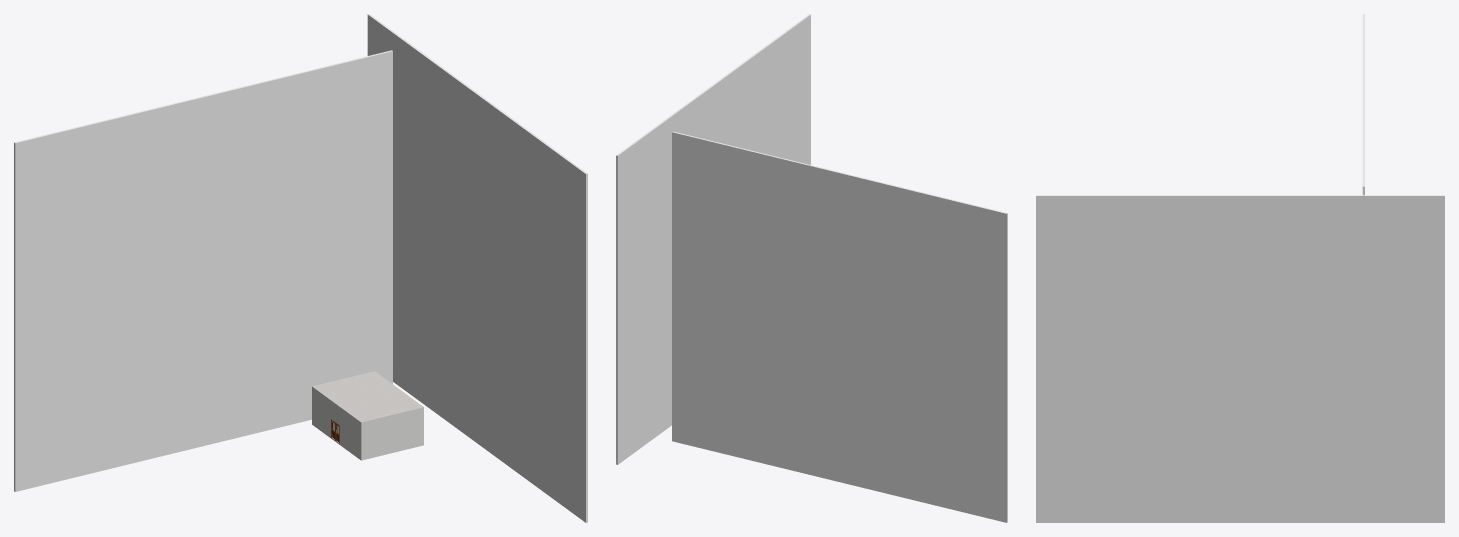
File: courtroom.glb
3 renders of one model, left to right at view 1: azimuth 30°, elevation 25°; view 2: azimuth 150°, elevation 25°; view 3: azimuth 270°, elevation 25°, orthographic. The views are drawn at different scales.
Parts seen in each view (by area): view 1: Object_7, Object_9, Object_13, Object_18; view 2: Object_18, Object_7; view 3: Object_18.
Boxes of the visible parts, x1,y1,x2,y2 form: Object_7: [15, 14, 585, 522]; Object_9: [312, 386, 423, 460]; Object_13: [312, 371, 423, 422]; Object_18: [14, 14, 587, 522]; Object_18: [616, 14, 1007, 522]; Object_7: [618, 15, 810, 464]; Object_18: [1036, 14, 1444, 522].
Bounding box in the file's own units: 68.49 × 57.32 × 64.96.
22 materials, 5 textured.
